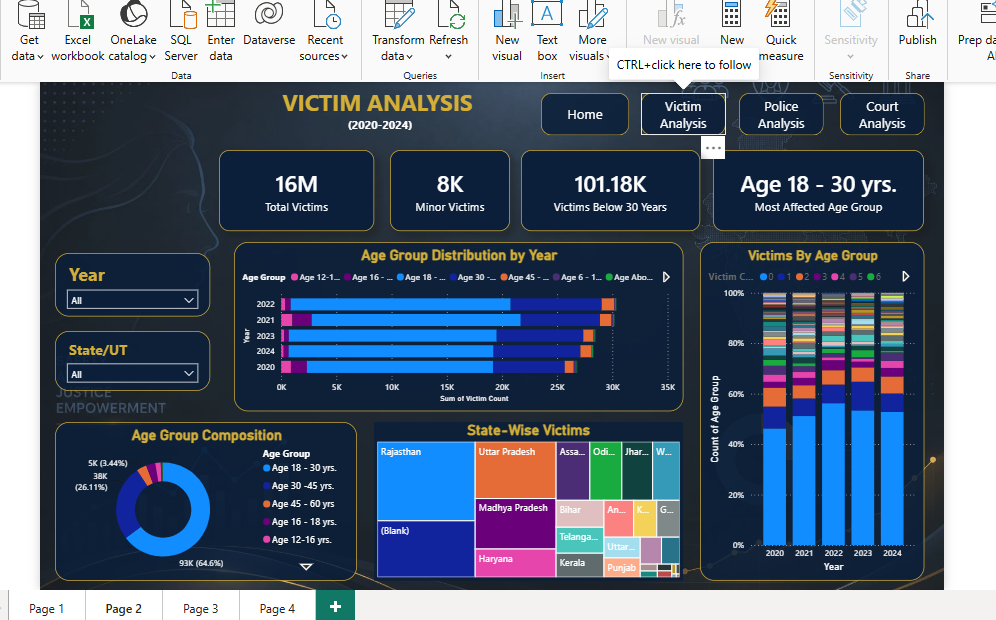

Layout of this report page (visuals, bound fields, positions):
{"tool":"powerbi","page":{"name":"Page 2","canvas":[1280,720],"ordinal":1},"visuals":[{"type":"textbox","box":[253.3,1.7,456.7,86.7],"z":0},{"type":"cardVisual","fields":{"Data":["Acts_Data.Total Victims"]},"box":[253.3,96.7,220,115],"z":2000},{"type":"cardVisual","fields":{"Data":["Acts_Data.Most Affected Age Group"]},"box":[953.9,96.4,299.1,114.8],"z":3000},{"type":"slicer","fields":{"Values":["Acts_Data.Year"]},"box":[21.7,241.7,220,90],"z":4000},{"type":"slicer","fields":{"Values":["Dim_State.State/UT"]},"box":[21.7,353.3,220,85],"z":5000},{"type":"shape","box":[710,15,125,60],"z":6000},{"type":"shape","box":[851.7,15,120,60],"z":7000},{"type":"shape","box":[990,15,120,60],"z":8000},{"type":"shape","box":[1133.3,15,120,60],"z":9000},{"type":"cardVisual","fields":{"Data":["Acts_Data.Victime Below 30"]},"box":[681.7,96.4,253.7,114.8],"z":10000},{"type":"cardVisual","fields":{"Data":["Acts_Data.Minor Victims"]},"box":[496.1,96.4,170.1,114.8],"z":11000},{"type":"barChart","title":"Age Group Distribution by Year","fields":{"Category":["Victim_Age_Data.Year"],"Series":["Victim_Age_Data.Age Group"],"Y":["Sum(Victim_Age_Data.Victim Count)"]},"box":[275,226.7,636.7,240],"z":12000},{"type":"hundredPercentStackedColumnChart","title":"Victims By Age Group","fields":{"Y":["CountNonNull(Victim_Age_Data.Age Group)"],"Category":["Victim_Age_Data.Year"],"Series":["Victim_Age_Data.Victim Count"]},"box":[935,226.7,318.3,480],"z":13000},{"type":"donutChart","title":"Age Group Composition","fields":{"Category":["Victim_Age_Data.Age Group"],"Y":["Sum(Victim_Age_Data.Victim Count)"]},"box":[21.7,481.7,428.3,225],"z":14000},{"type":"treemap","title":"State-Wise Victims","fields":{"Values":["Sum(Victim_Age_Data.Total_Victims)"],"Group":["Dim_State.State/UT"]},"box":[473.3,481.7,438.3,225],"z":15000}]}

Visuals, with their boxes on the page's 1280x720 design canvas (x1, y1, x2, y2). These are canvas units, not pixel positions in the 996x620 screenshot, which may show the page scaled, cropped or inside an application window:
textbox: (x1=253, y1=2, x2=710, y2=88)
cardVisual - Acts_Data.Total Victims: (x1=253, y1=97, x2=473, y2=212)
cardVisual - Acts_Data.Most Affected Age Group: (x1=954, y1=96, x2=1253, y2=211)
slicer - Acts_Data.Year: (x1=22, y1=242, x2=242, y2=332)
slicer - Dim_State.State/UT: (x1=22, y1=353, x2=242, y2=438)
shape: (x1=710, y1=15, x2=835, y2=75)
shape: (x1=852, y1=15, x2=972, y2=75)
shape: (x1=990, y1=15, x2=1110, y2=75)
shape: (x1=1133, y1=15, x2=1253, y2=75)
cardVisual - Acts_Data.Victime Below 30: (x1=682, y1=96, x2=935, y2=211)
cardVisual - Acts_Data.Minor Victims: (x1=496, y1=96, x2=666, y2=211)
"Age Group Distribution by Year" barChart: (x1=275, y1=227, x2=912, y2=467)
"Victims By Age Group" hundredPercentStackedColumnChart: (x1=935, y1=227, x2=1253, y2=707)
"Age Group Composition" donutChart: (x1=22, y1=482, x2=450, y2=707)
"State-Wise Victims" treemap: (x1=473, y1=482, x2=912, y2=707)
